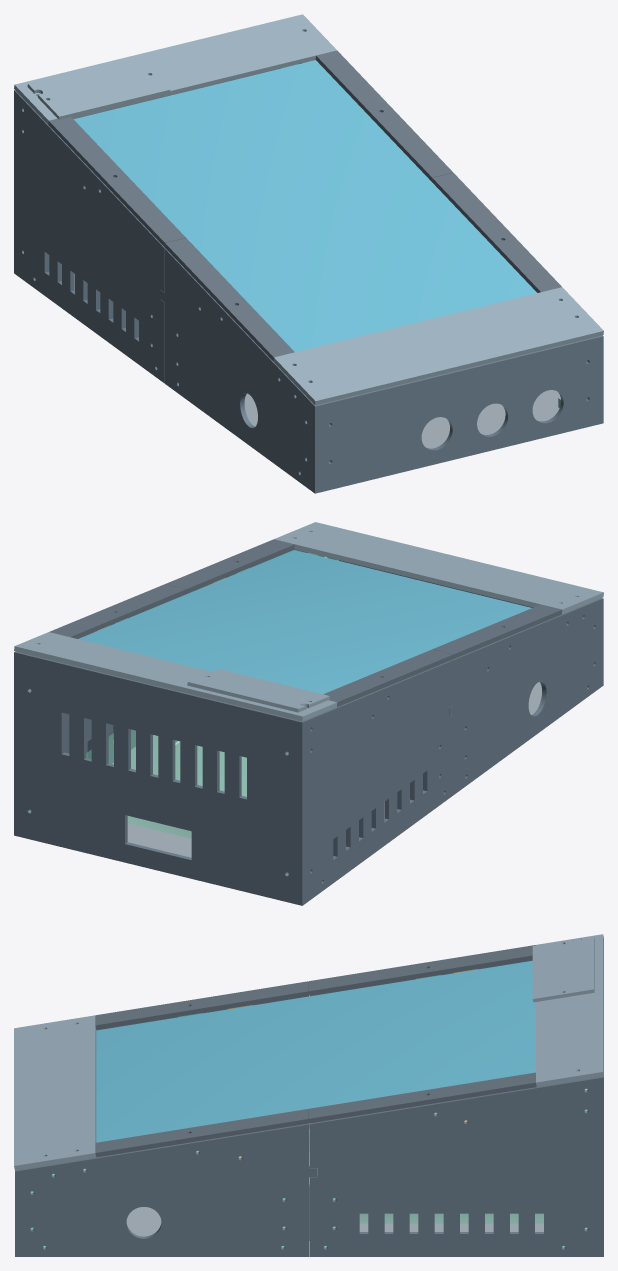
Rendered from cabinet-v1_1.glb.
3 renders of one model, top to bottom at view 1: azimuth 30°, elevation 25°; view 2: azimuth 150°, elevation 25°; view 3: azimuth 270°, elevation 25°, orthographic. The views are drawn at different scales.
Parts seen in each view (by area): view 1: REFERENCE_Monitor, left_rear_wall, front_button_panel, left_front_wall, front_cable_lid, rear_control_deck, control_hatch, bezel_right_rear, bezel_left_rear, bezel_left_front, bezel_right_front, bottom_front; view 2: rear_vent_panel, REFERENCE_Monitor, left_rear_wall, left_front_wall, front_cable_lid, rear_control_deck, bottom_rear, control_hatch, bezel_right_rear, bezel_left_rear, REFERENCE_Dell_3050, bezel_right_front (+2 smaller); view 3: REFERENCE_Monitor, right_rear_wall, right_front_wall, front_cable_lid, rear_control_deck, control_hatch, bezel_right_rear, bezel_left_rear, bezel_right_front, bezel_left_front, bottom_rear, bottom_front (+1 smaller).
Boxes of the visible parts, x1=… form: REFERENCE_Monitor: x1=73, y1=60, x2=536, y2=352; left_rear_wall: x1=14, y1=90, x2=164, y2=383; front_button_panel: x1=319, y1=336, x2=598, y2=492; left_front_wall: x1=160, y1=248, x2=319, y2=493; front_cable_lid: x1=273, y1=287, x2=603, y2=405; rear_control_deck: x1=14, y1=14, x2=336, y2=124; control_hatch: x1=27, y1=56, x2=170, y2=119; bezel_right_rear: x1=315, y1=50, x2=452, y2=181; bezel_left_rear: x1=48, y1=117, x2=185, y2=246; bezel_left_front: x1=164, y1=238, x2=294, y2=360; bezel_right_front: x1=432, y1=172, x2=561, y2=292; bottom_front: x1=244, y1=390, x2=560, y2=448; rear_vent_panel: x1=18, y1=652, x2=299, y2=904; REFERENCE_Monitor: x1=78, y1=550, x2=531, y2=694; left_rear_wall: x1=298, y1=660, x2=452, y2=905; left_front_wall: x1=449, y1=598, x2=603, y2=795; front_cable_lid: x1=274, y1=522, x2=603, y2=614; rear_control_deck: x1=14, y1=632, x2=337, y2=721; bottom_rear: x1=112, y1=735, x2=384, y2=857; control_hatch: x1=187, y1=669, x2=329, y2=712; bezel_right_rear: x1=49, y1=584, x2=185, y2=638; bezel_left_rear: x1=323, y1=649, x2=453, y2=706; REFERENCE_Dell_3050: x1=86, y1=729, x2=246, y2=838; bezel_right_front: x1=165, y1=539, x2=294, y2=593; REFERENCE_Monitor: x1=96, y1=960, x2=535, y2=1142; right_rear_wall: x1=309, y1=1076, x2=603, y2=1256; right_front_wall: x1=15, y1=1123, x2=316, y2=1256; front_cable_lid: x1=14, y1=1015, x2=96, y2=1170; rear_control_deck: x1=536, y1=934, x2=603, y2=1086; control_hatch: x1=532, y1=936, x2=594, y2=1002; bezel_right_rear: x1=308, y1=1072, x2=536, y2=1123; bezel_left_rear: x1=308, y1=945, x2=535, y2=995; bezel_right_front: x1=95, y1=1109, x2=309, y2=1157; bezel_left_front: x1=95, y1=981, x2=309, y2=1029; bottom_rear: x1=317, y1=1168, x2=543, y2=1231; bottom_front: x1=126, y1=1207, x2=161, y2=1236.
Bounding box in the file's own units: 0.26 × 0.1646 × 0.4707.
